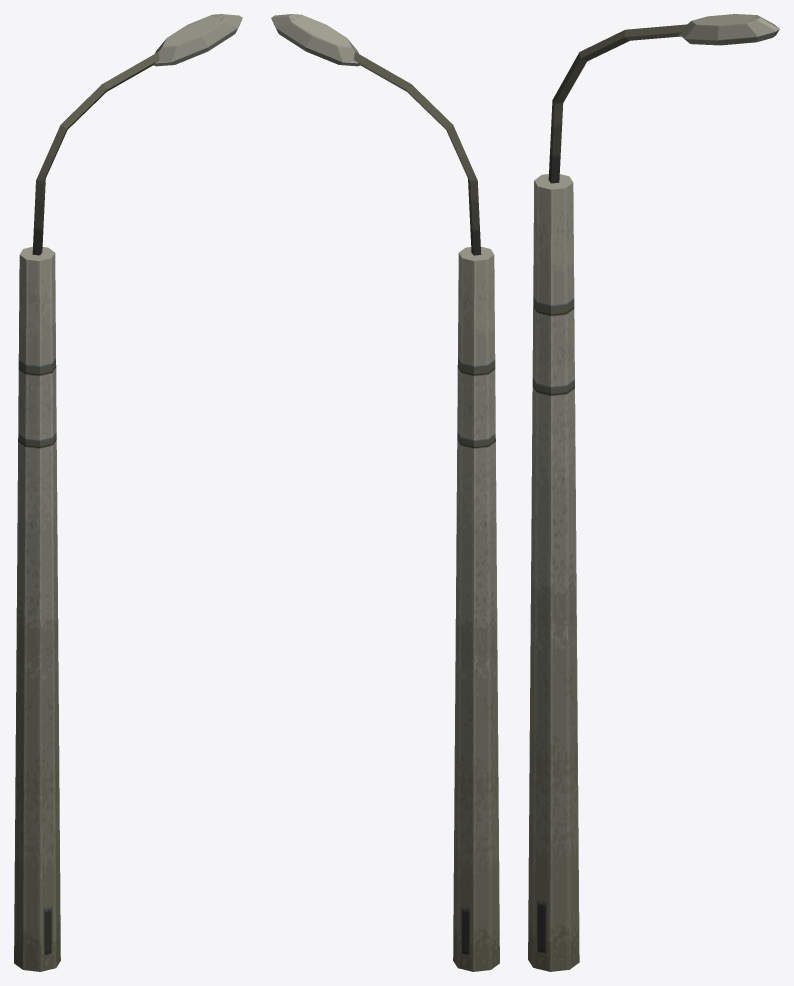
File: lightpost.fbx
The picture shows the model from 3 angles, left to right: view 1: azimuth 30°, elevation 25°; view 2: azimuth 150°, elevation 25°; view 3: azimuth 330°, elevation 25°; orthographic projection. The views are drawn at different scales.
Visible parts, largest first — view 1: Cylinder; view 2: Cylinder; view 3: Cylinder.
Part boxes in pixels (x1,y1,x2,y2): Cylinder: (14,14,242,971); Cylinder: (271,14,499,971); Cylinder: (528,14,779,971).
Bounding box in the file's own units: 39.08 × 230 × 891.
Materials: 1 (1 with a texture image).
